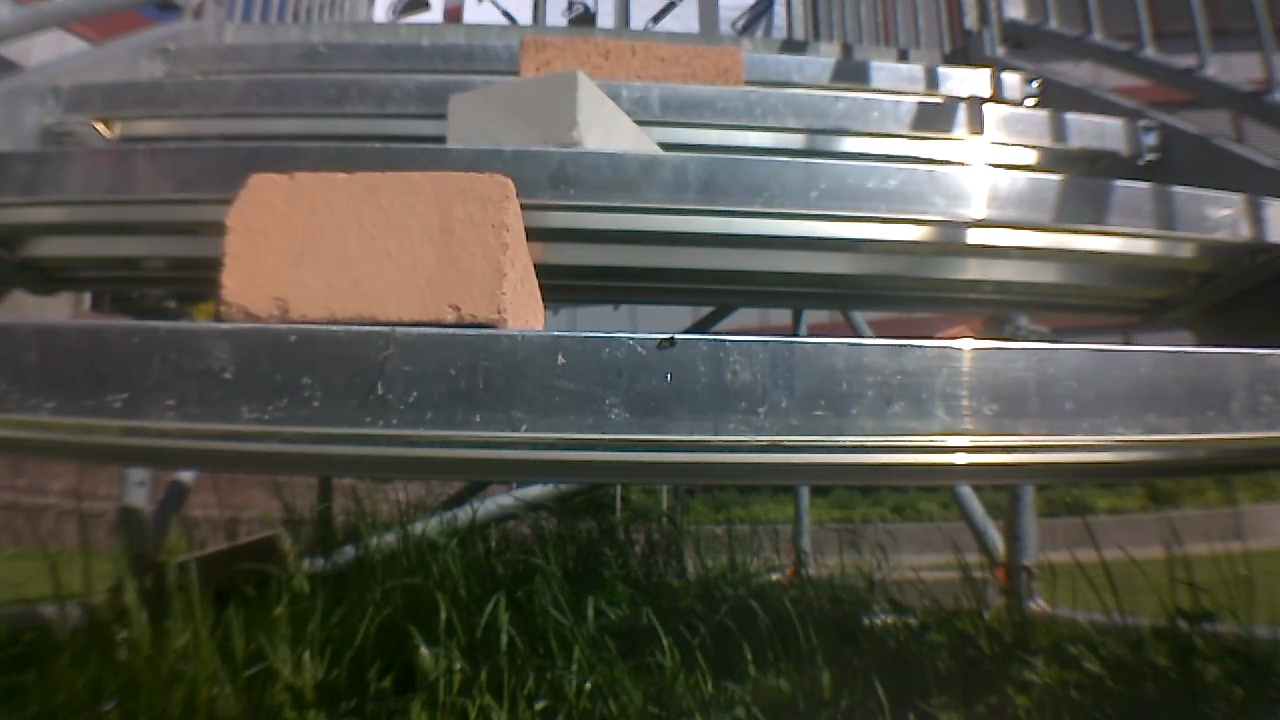brick: (211, 172, 557, 324), (429, 73, 694, 149), (517, 38, 745, 77)
edge: (0, 329, 1276, 444), (0, 155, 1275, 237), (0, 77, 1169, 137), (55, 52, 1052, 89)
